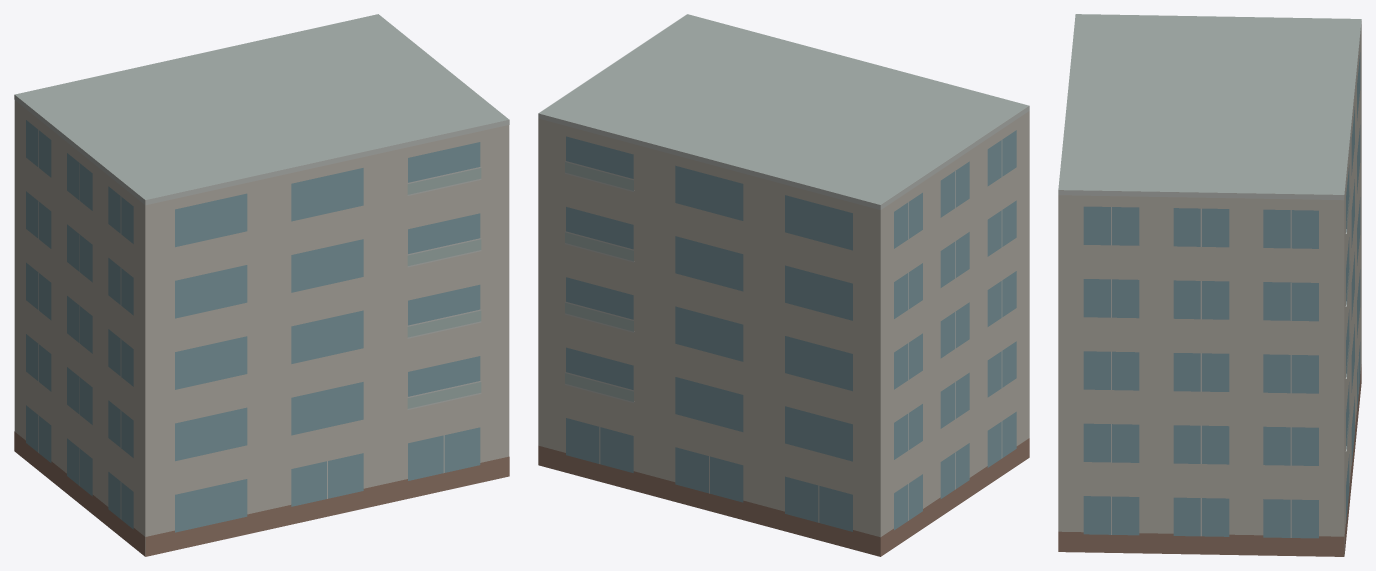
Rendered from survey-upis-32570611.glb.
3 renders of one model, left to right at view 1: azimuth 30°, elevation 25°; view 2: azimuth 150°, elevation 25°; view 3: azimuth 270°, elevation 25°, orthographic. The views are drawn at different scales.
Visible parts, largest first — view 1: survey-upis-32570611.tmp; view 2: survey-upis-32570611.tmp; view 3: survey-upis-32570611.tmp.
Boxes of the visible parts, bbox=[...] form: survey-upis-32570611.tmp: bbox=[14, 14, 509, 556]; survey-upis-32570611.tmp: bbox=[538, 14, 1029, 556]; survey-upis-32570611.tmp: bbox=[1058, 14, 1361, 556].
Bounding box in the file's own units: 18.15 × 16.91 × 12.86.
